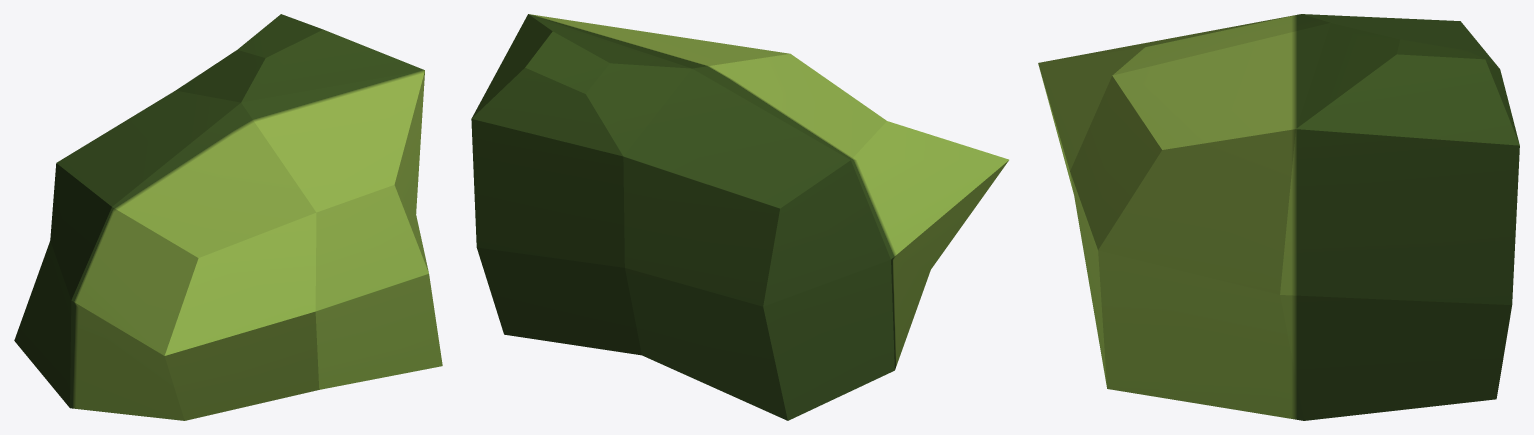
Rendered from Rock_13.fbx.
3 views of the same model, side by side, from view 1: azimuth 30°, elevation 25°; view 2: azimuth 150°, elevation 25°; view 3: azimuth 270°, elevation 25° (orthographic). The views are drawn at different scales.
Visible parts, largest first — view 1: Rock_13; view 2: Rock_13; view 3: Rock_13.
Boxes of the visible parts, x1,y1,x2,y2 form: Rock_13: (14, 14, 442, 420); Rock_13: (471, 14, 1008, 420); Rock_13: (1038, 14, 1519, 420).
Size of the model in its own units: 1.06 by 0.7904 by 0.9535.
